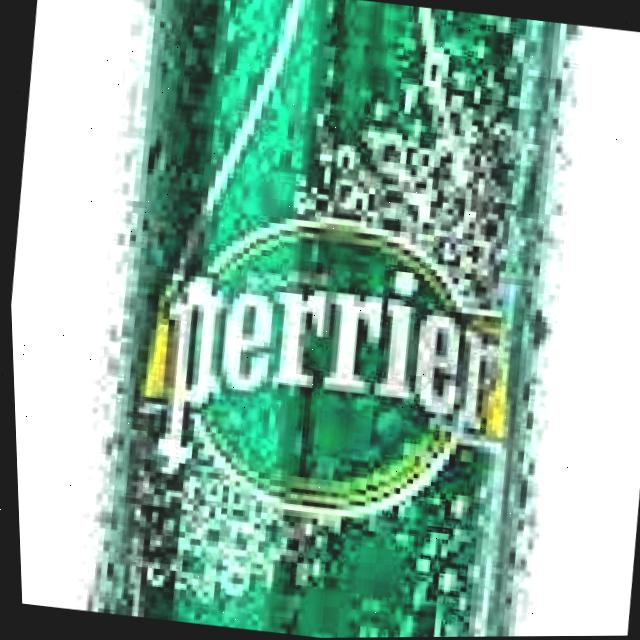metal: (88, 0, 575, 638)
